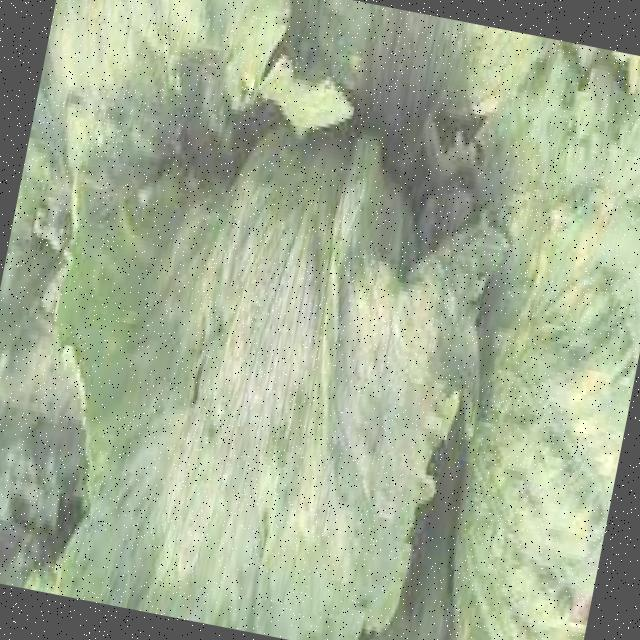Downy_mildew_on_lettuce: (124, 252, 431, 622)
